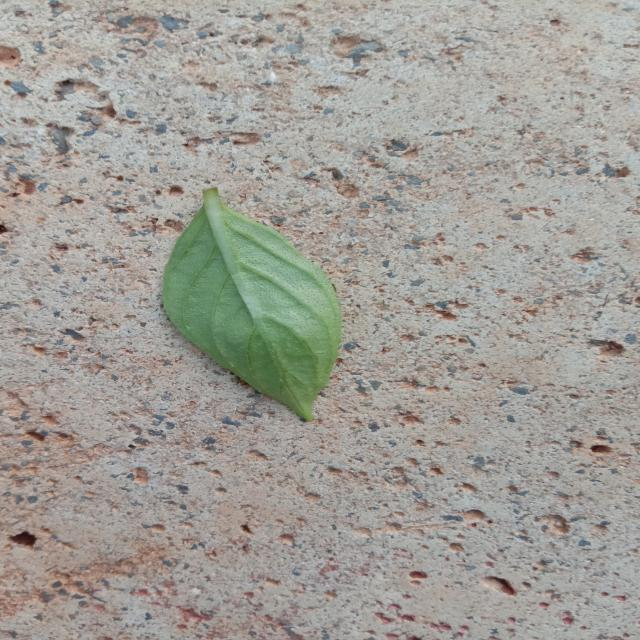kamakasturi: (164, 188, 343, 421)
